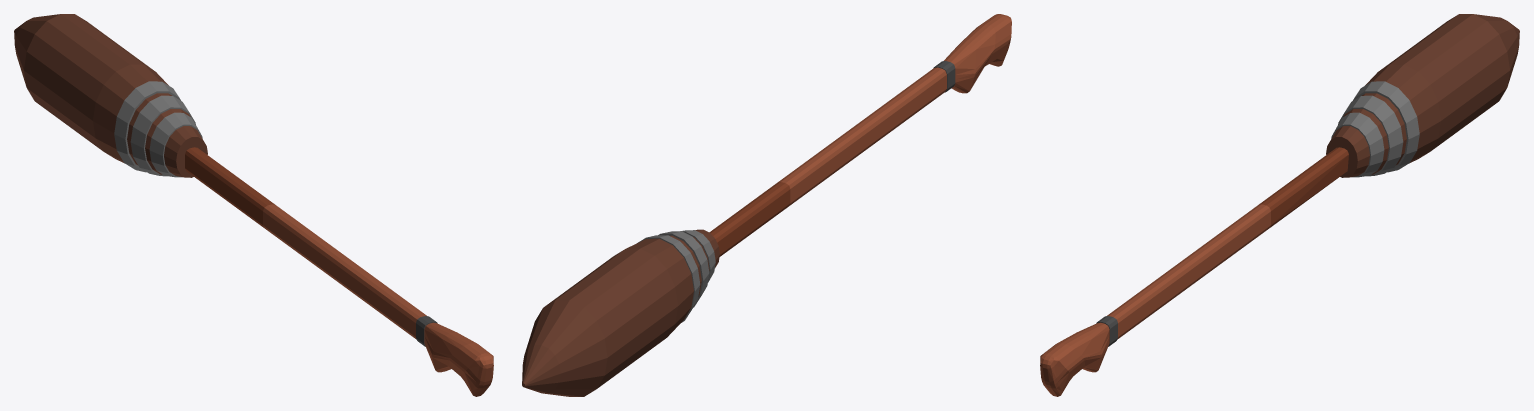
Rendered from brossdur3.obj.
3 views of the same model, side by side, from view 1: azimuth 30°, elevation 25°; view 2: azimuth 150°, elevation 25°; view 3: azimuth 330°, elevation 25° (orthographic). The views are drawn at different scales.
Visible parts, largest first — view 1: Body; view 2: Body; view 3: Body.
Boxes of the visible parts, bbox=[...] form: Body: bbox=[14, 14, 493, 396]; Body: bbox=[522, 14, 1011, 396]; Body: bbox=[1040, 14, 1519, 396].
Bounding box in the file's own units: 0.4293 × 0.5255 × 4.75.
